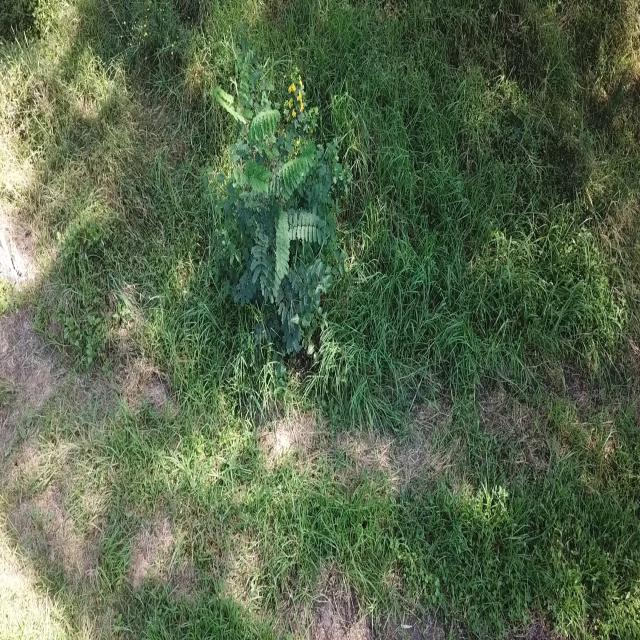Mysore-Thorn-Weed: (207, 61, 344, 376)
